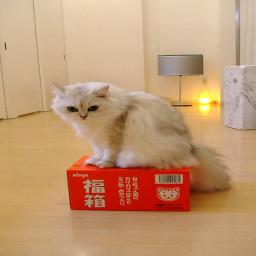catnose: (78, 114, 89, 120)
